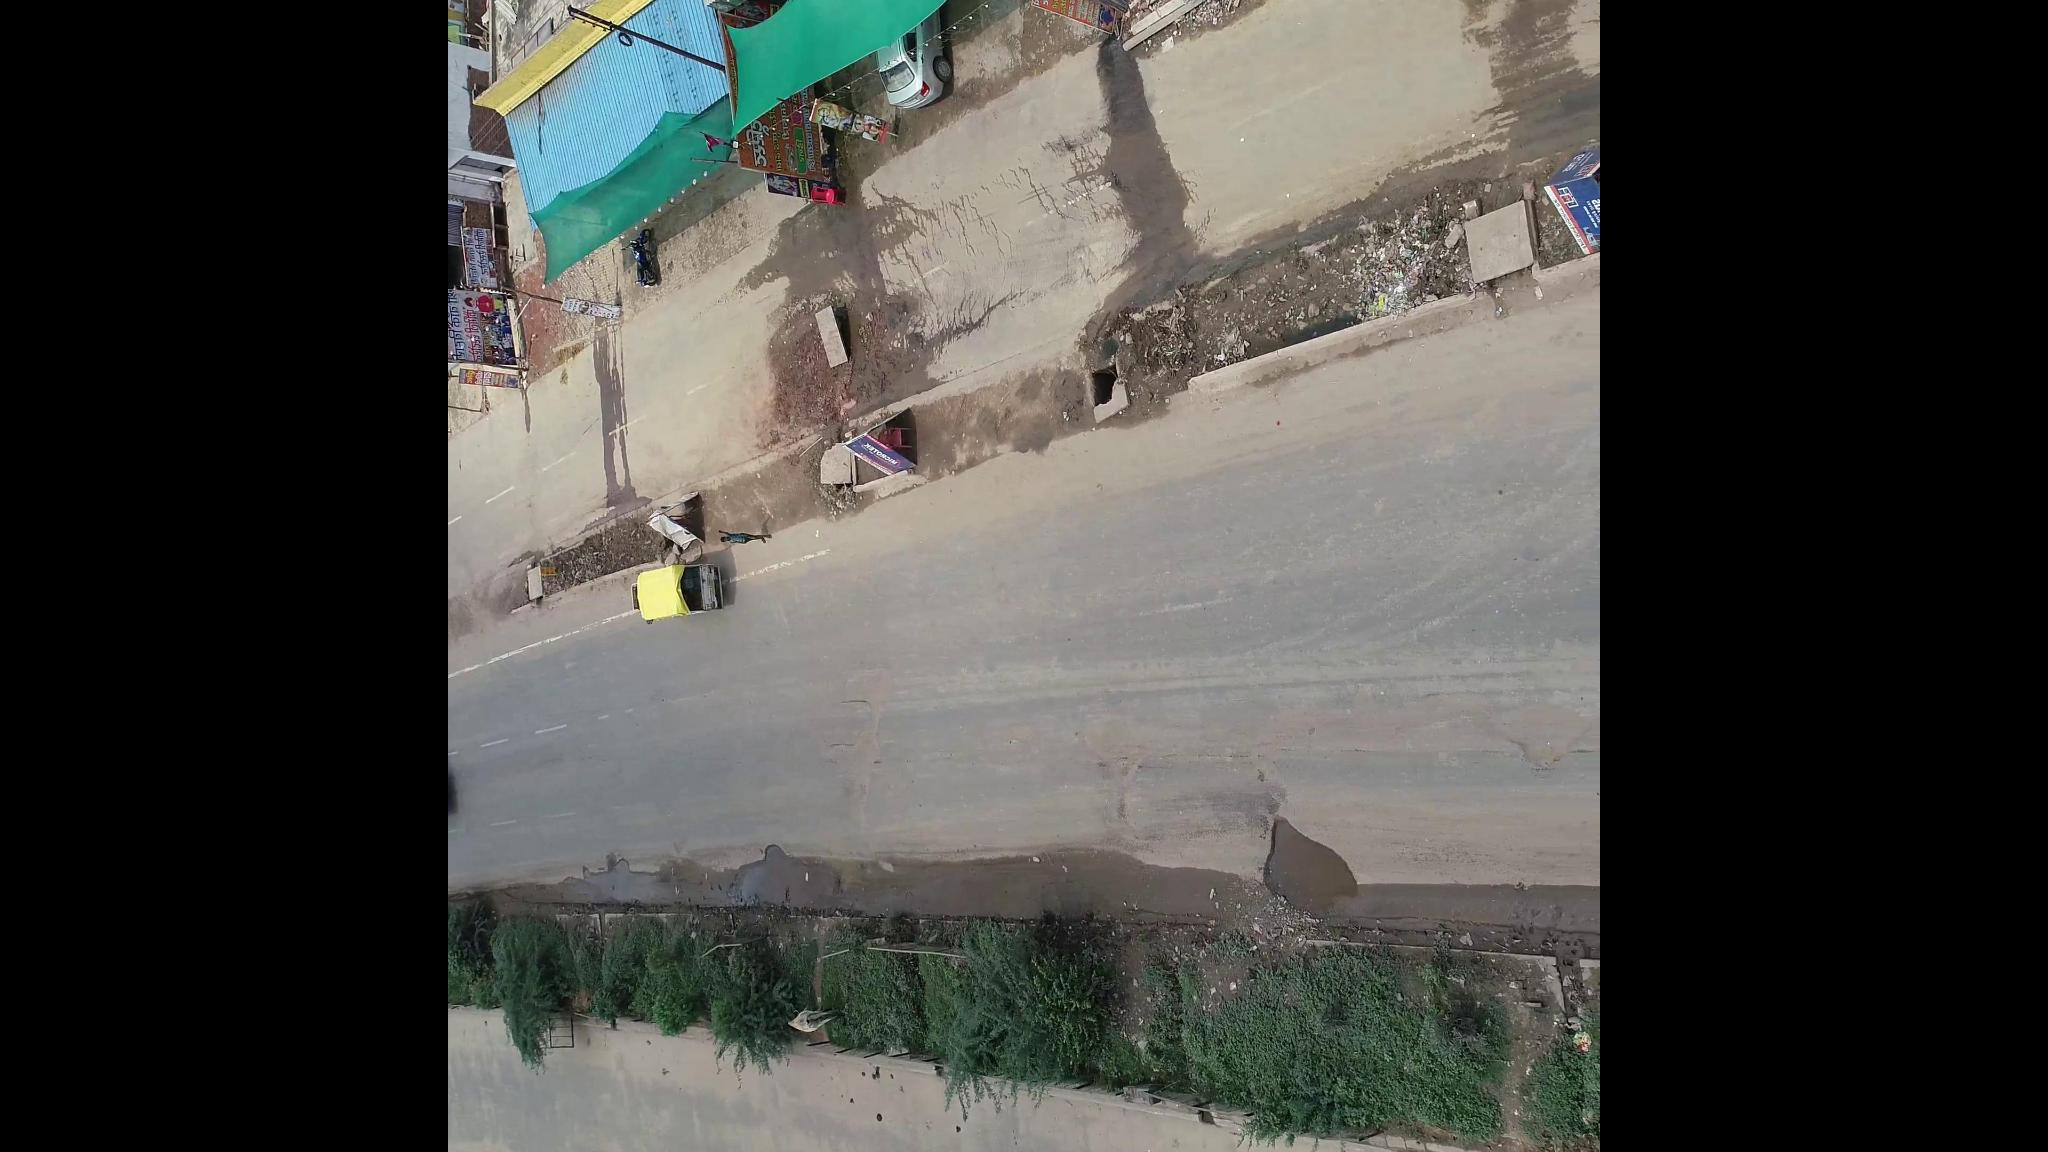Potholes: (1250, 796, 1380, 890)
